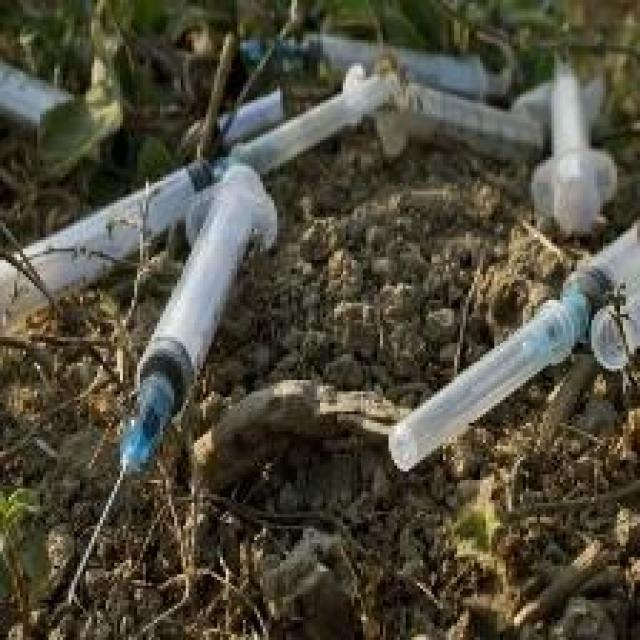syringe: (21, 38, 640, 482)
